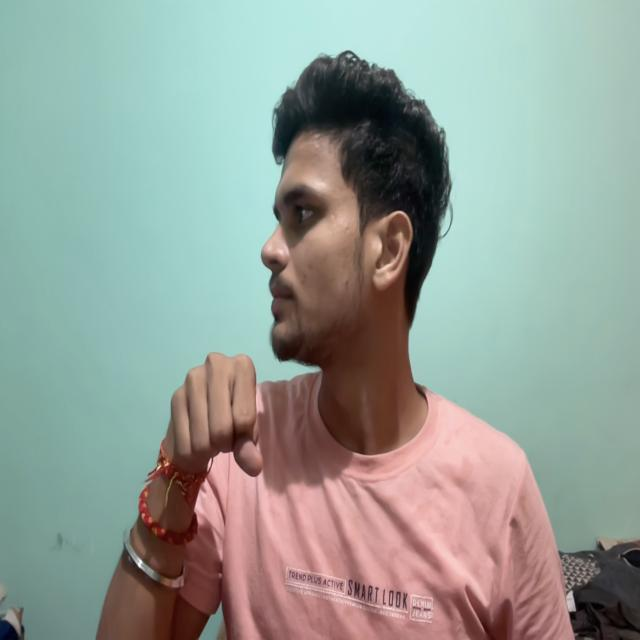yes: (140, 309, 264, 526)
